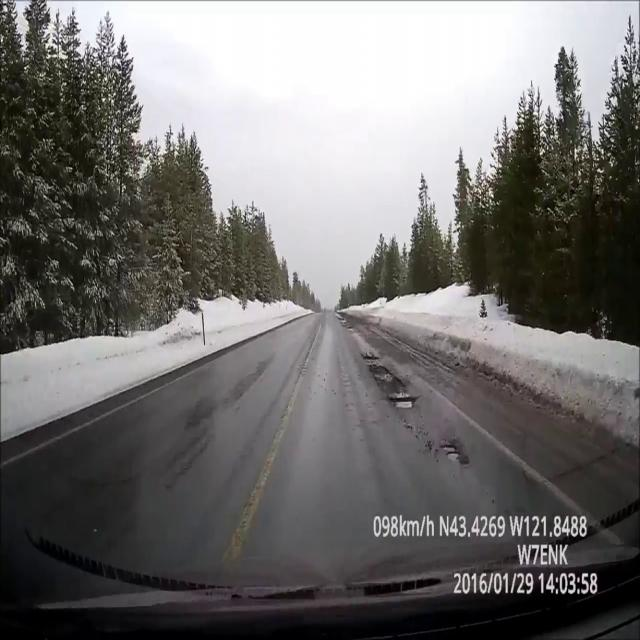Pothole: (368, 362, 407, 393), (440, 440, 465, 464), (391, 397, 415, 409), (364, 353, 379, 361)
